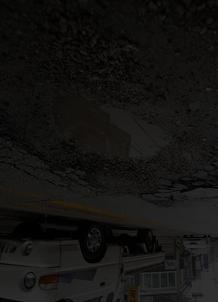pothole: (38, 95, 180, 173)
